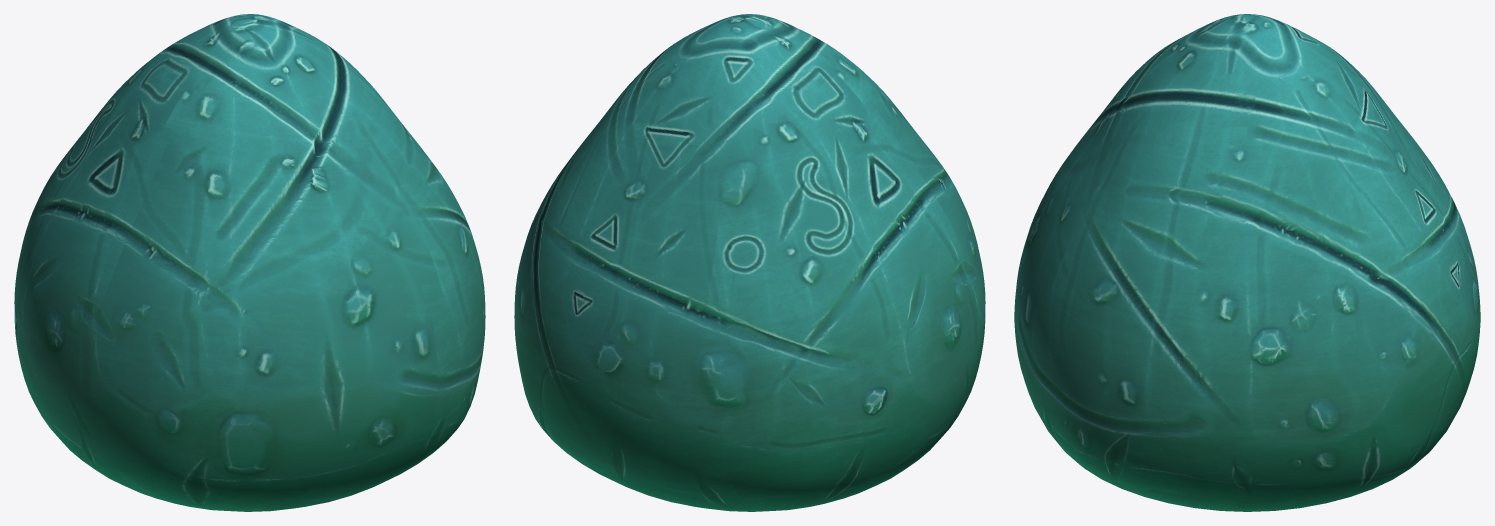
The model's file is egg_phoenix.fbx.
3 views of the same model, side by side, from view 1: azimuth 30°, elevation 25°; view 2: azimuth 150°, elevation 25°; view 3: azimuth 270°, elevation 25° (orthographic).
Visible parts, largest first — view 1: lp_Cube.001; view 2: lp_Cube.001; view 3: lp_Cube.001.
Boxes of the visible parts, left/top/right/bottom form: lp_Cube.001: left=14, top=14, right=485, bottom=511; lp_Cube.001: left=514, top=14, right=985, bottom=511; lp_Cube.001: left=1014, top=14, right=1480, bottom=511.
Bounding box in the file's own units: 185 × 200 × 185.
